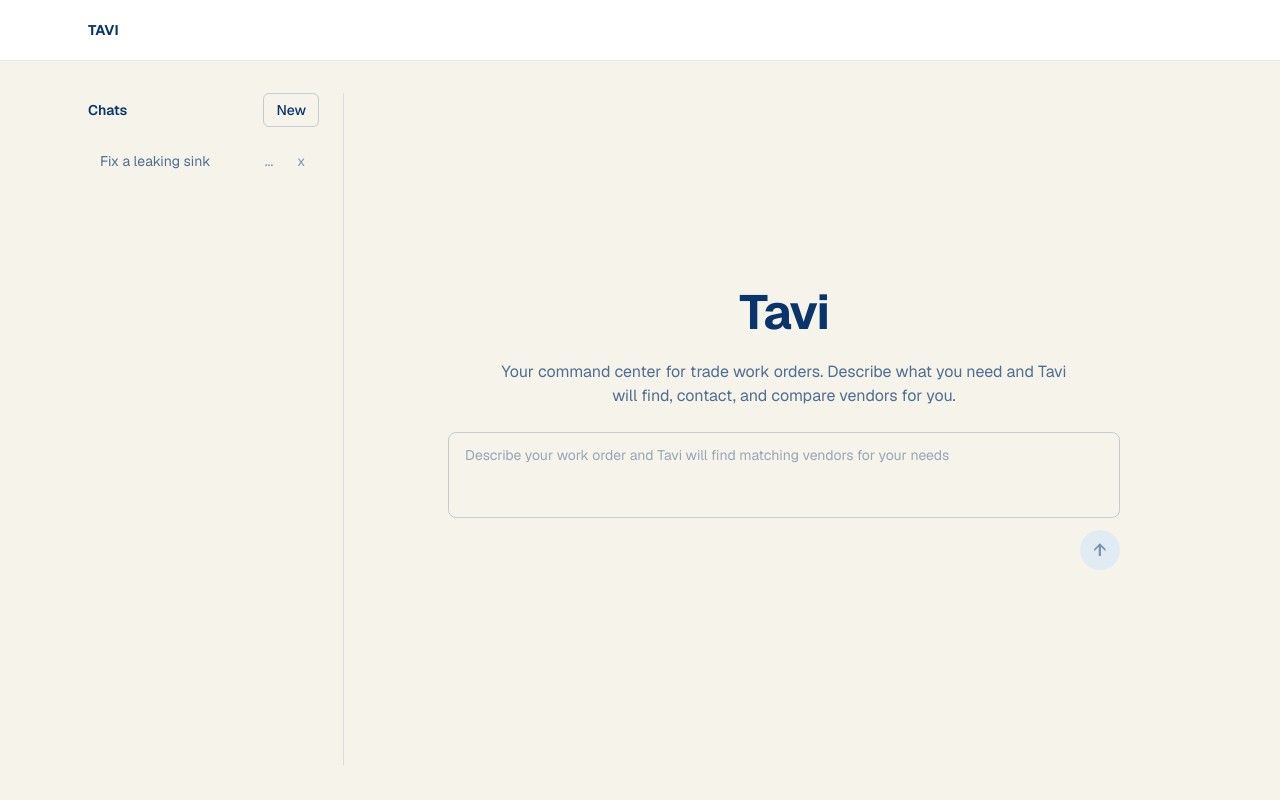
Test: TaviPage › shows prior chats and loads the selected chat history
Click the button "Fix a leaking sink" at (170, 161), box x1=88 y1=143 x2=251 y2=179
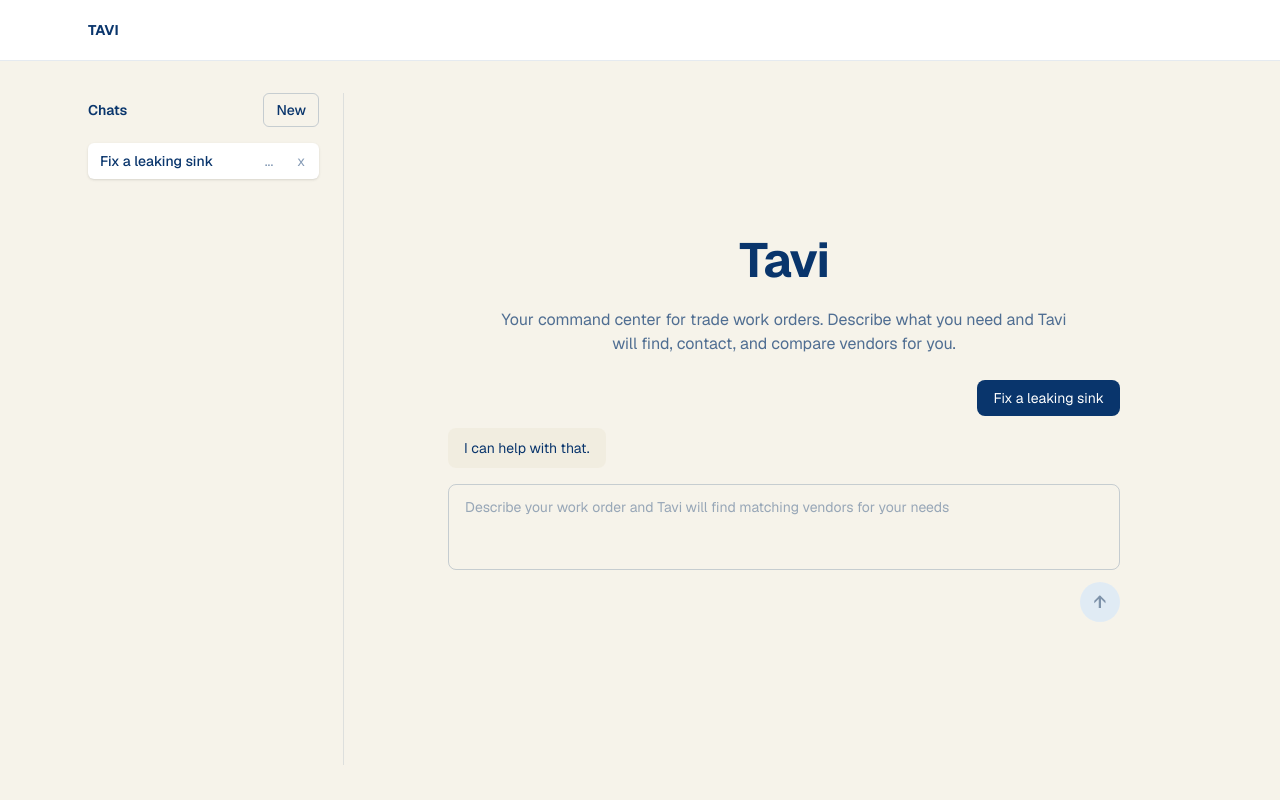
Expected: the text "I can help with that." is shown, x1=464 y1=436 x2=590 y2=460
